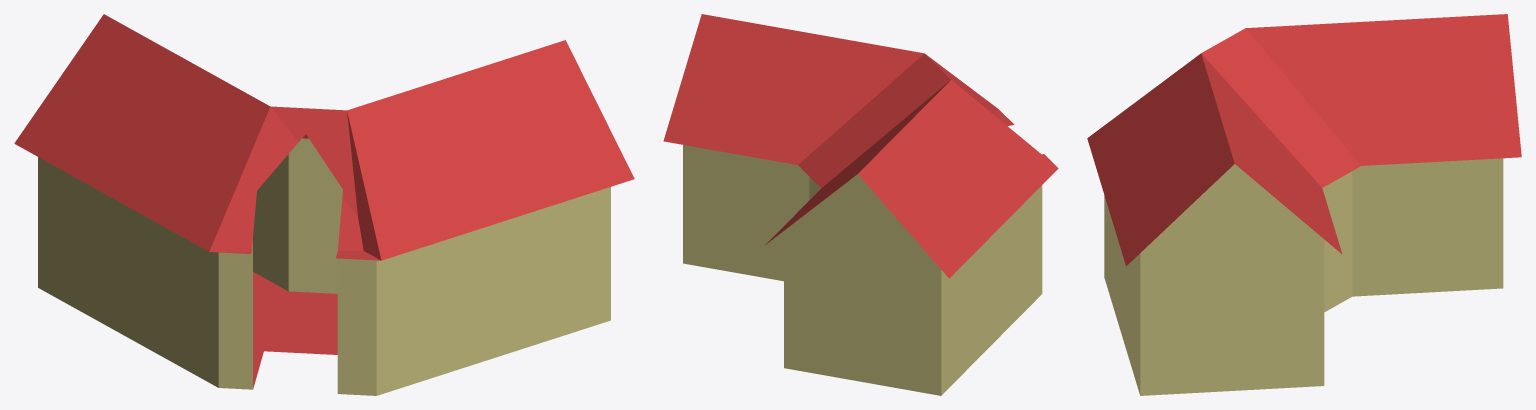
3 views of the same model, side by side, from view 1: azimuth 30°, elevation 25°; view 2: azimuth 150°, elevation 25°; view 3: azimuth 270°, elevation 25° (orthographic). The views are drawn at different scales.
Bounding box in the file's own units: 29.08 × 26.55 × 15.77.
